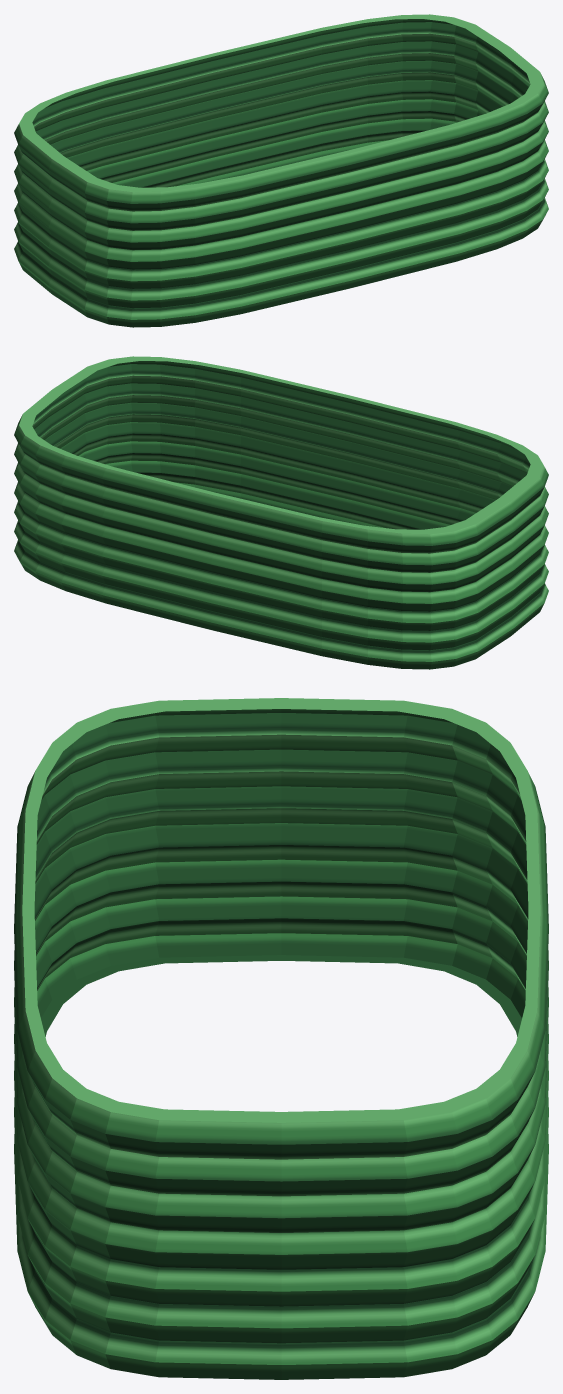
File: acc_Haramaki.fbx
The picture shows the model from 3 angles, top to bottom: view 1: azimuth 30°, elevation 25°; view 2: azimuth 150°, elevation 25°; view 3: azimuth 270°, elevation 25°; orthographic projection. The views are drawn at different scales.
Parts seen in each view (by area): view 1: Haramaki; view 2: Haramaki; view 3: Haramaki.
Boxes of the visible parts, <box> form: Haramaki: <box>14,14,548,327</box>; Haramaki: <box>14,356,548,669</box>; Haramaki: <box>14,698,548,1379</box>.
Size of the model in its own units: 209 by 58 by 109.
Materials: 1 (1 with a texture image).
